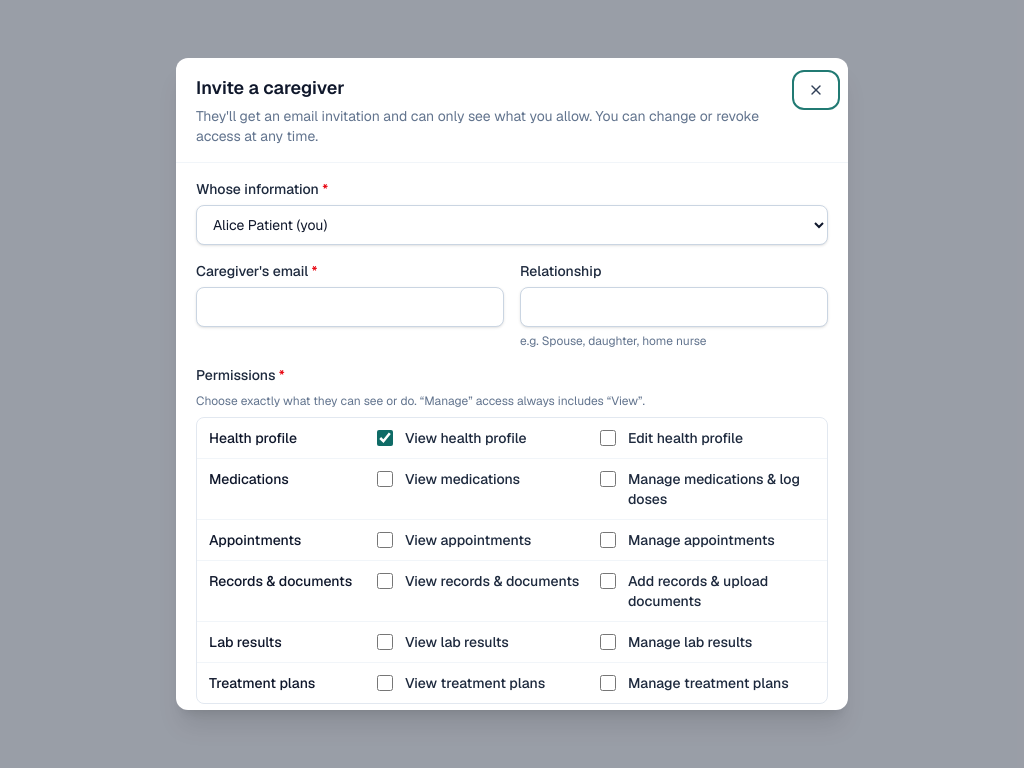
InviteCaregiverDialog › requires a valid email and at least one permission
Click the checkbox labelled "View health profile" at (385,438), box 377,430 -> 393,446
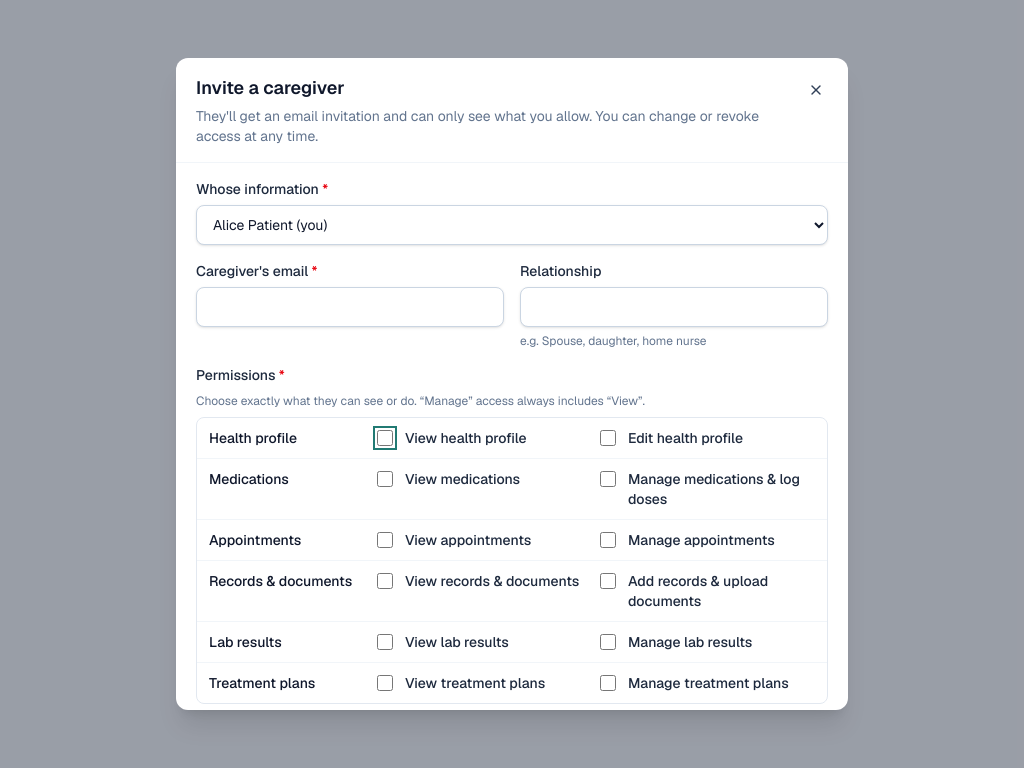
Type "not-an-email" into the field labelled "Caregiver's email *" at (350,307), box 196,287 -> 504,327
(page scrolled)
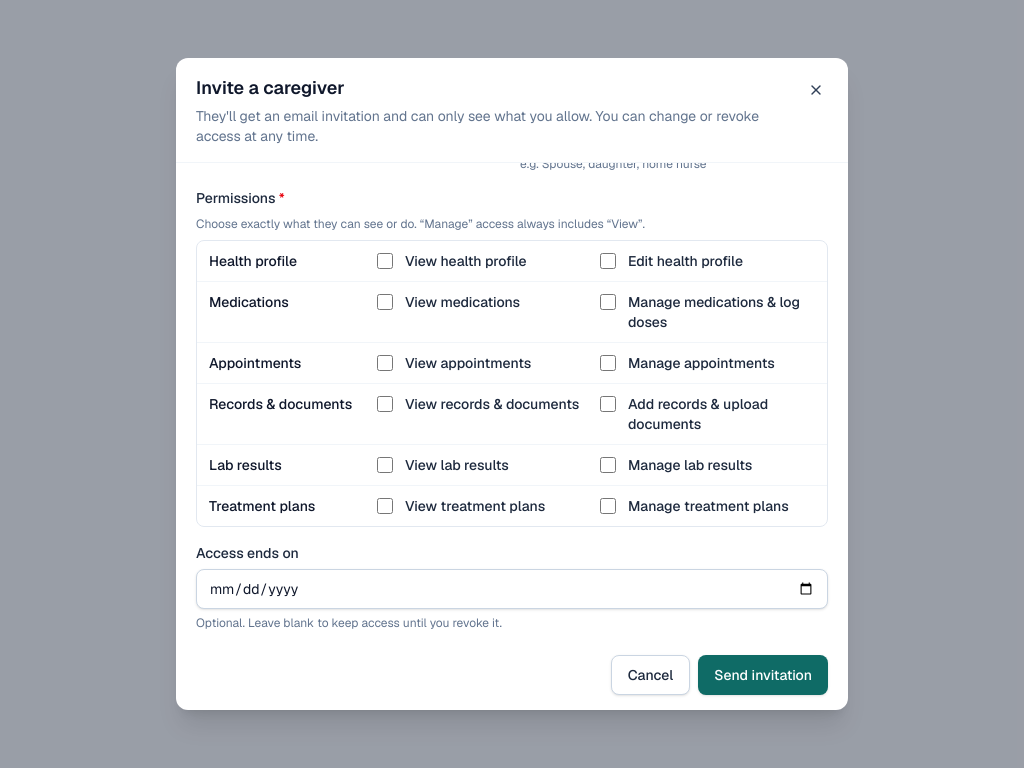
Click the button "Send invitation" at (763,675), box 698,655 -> 828,695
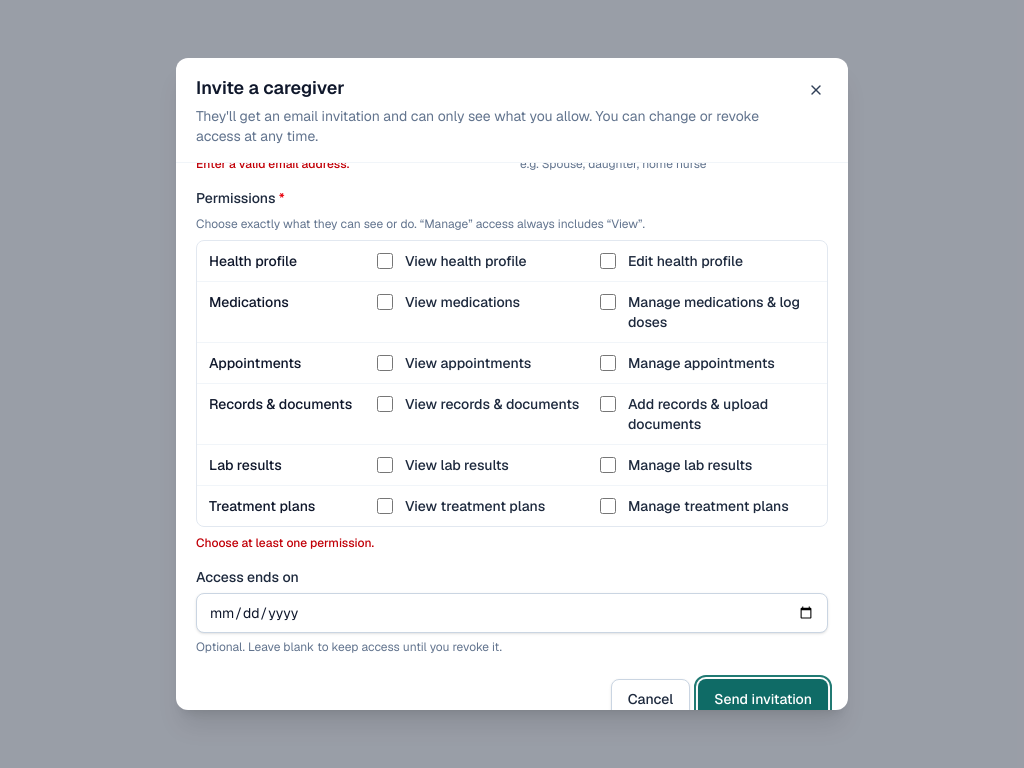
Check: the text "Choose at least one permission." is shown, box 196,535 -> 374,551
